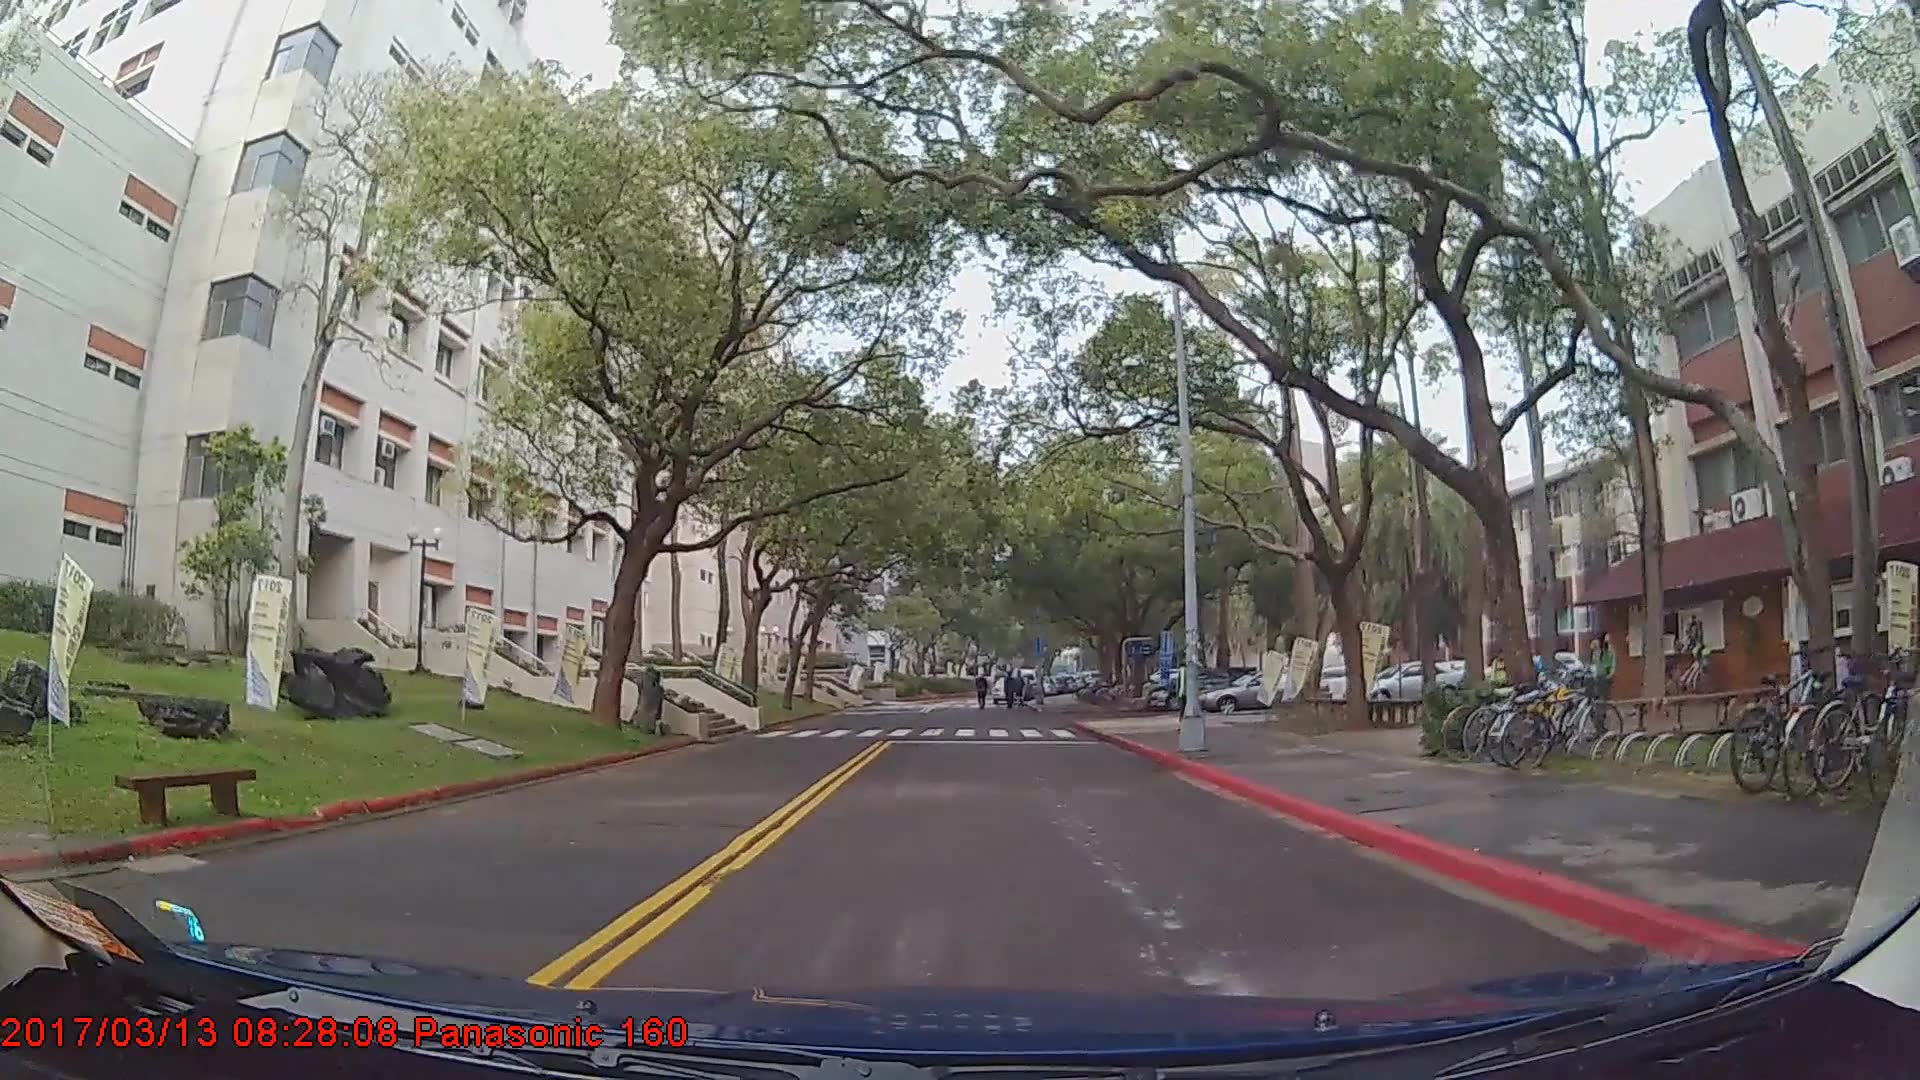vehicle: (1197, 670, 1329, 713), (1338, 659, 1465, 704)
